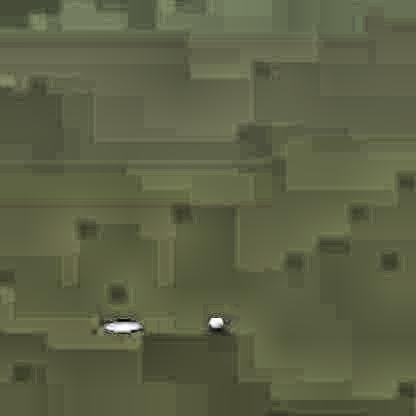golfball: (207, 316, 222, 328)
